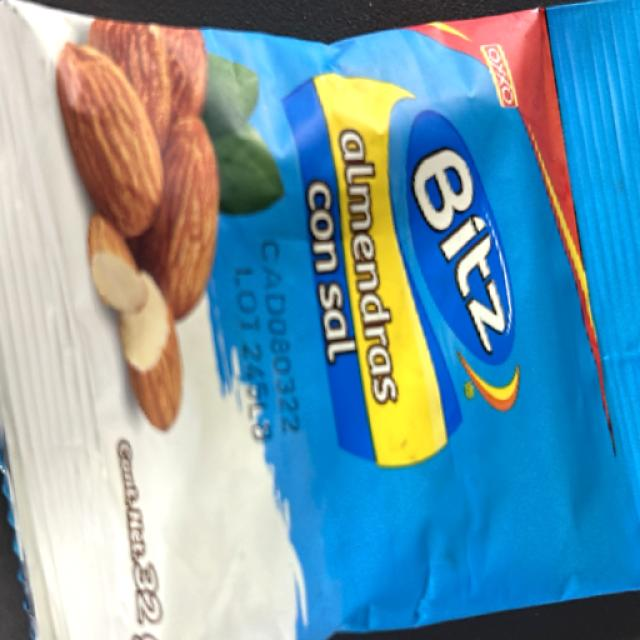bitzAlmendras: (0, 11, 640, 614)
